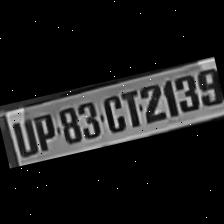1: (156, 76, 180, 119)
2: (134, 79, 167, 125)
3: (74, 95, 103, 140), (173, 71, 201, 116)
8: (54, 100, 84, 146)
9: (192, 62, 222, 108)
C: (97, 89, 127, 135)
P: (28, 108, 60, 153)
T: (117, 85, 144, 130)
U: (7, 115, 36, 159)
